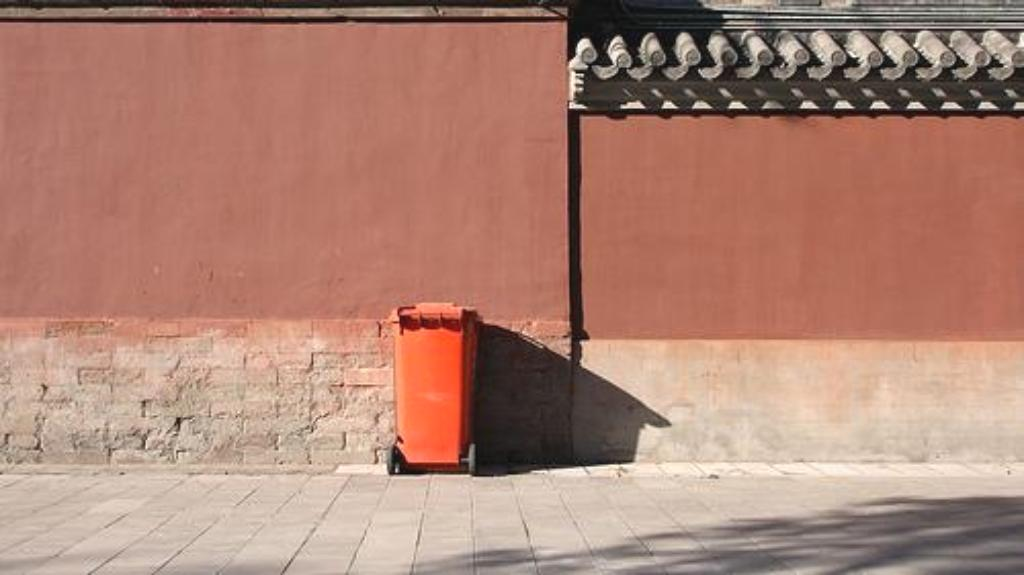dustbin: (373, 294, 500, 489)
